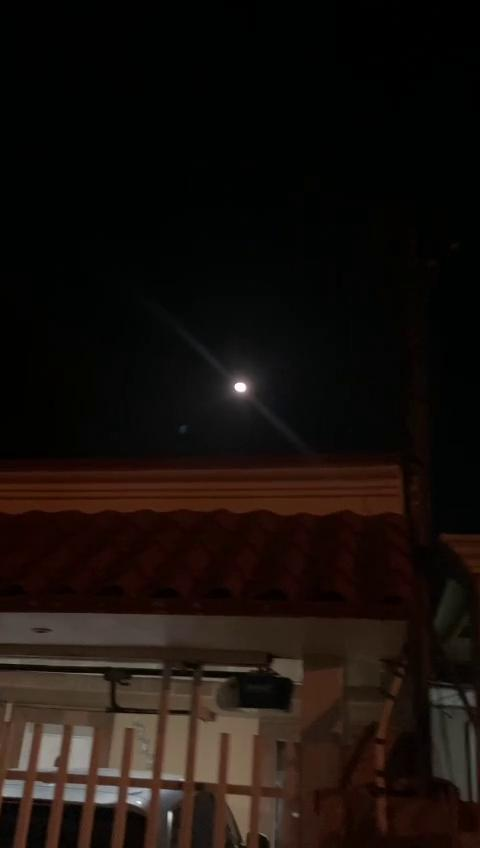moon: (230, 375, 259, 404)
